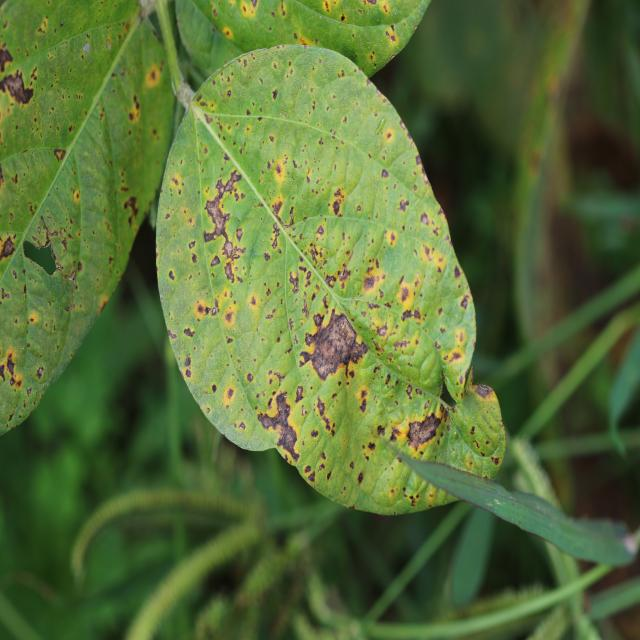Bacterial_Blight: (297, 314, 367, 378), (22, 218, 75, 285), (255, 388, 301, 463), (405, 413, 443, 452), (0, 68, 35, 107), (204, 193, 231, 242), (123, 195, 139, 228), (331, 186, 347, 215), (0, 235, 16, 262), (127, 93, 141, 122), (473, 383, 495, 401), (272, 159, 287, 183), (146, 65, 161, 87), (401, 307, 421, 322), (363, 274, 377, 292), (224, 260, 235, 281), (271, 199, 283, 218), (6, 355, 16, 377), (290, 273, 300, 294), (338, 265, 350, 282), (53, 148, 66, 163), (224, 386, 235, 403), (386, 229, 397, 246), (223, 310, 235, 325), (460, 294, 470, 310), (398, 198, 409, 212), (385, 29, 396, 43), (295, 385, 304, 402), (183, 326, 195, 338), (420, 212, 430, 226), (301, 299, 309, 316), (377, 424, 386, 436), (36, 366, 44, 379), (491, 456, 500, 466), (246, 372, 254, 383), (82, 42, 90, 53), (357, 472, 364, 484), (185, 356, 192, 368), (168, 270, 175, 281), (8, 412, 15, 423), (272, 89, 278, 101), (188, 240, 196, 249), (106, 39, 112, 50), (263, 252, 270, 261), (340, 13, 346, 22), (26, 387, 32, 396), (470, 426, 475, 435)
Soybean: (156, 45, 505, 514)
